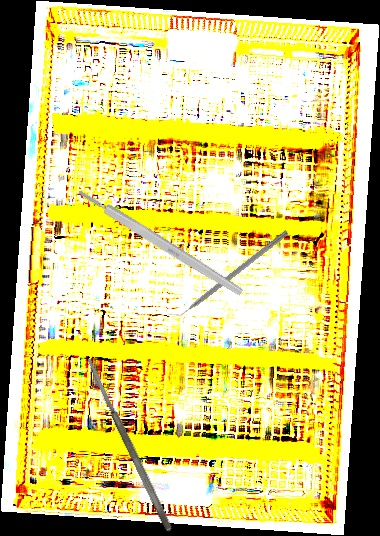Chopper: (166, 223, 290, 324)
Scalpel Handle: (76, 186, 245, 298)
Spatula Surgical: (83, 354, 175, 534)
